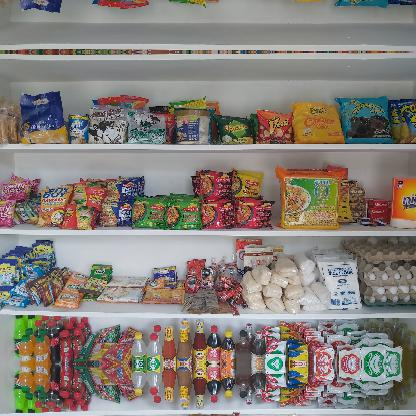Lady-s-Choice: (175, 110, 209, 145)
